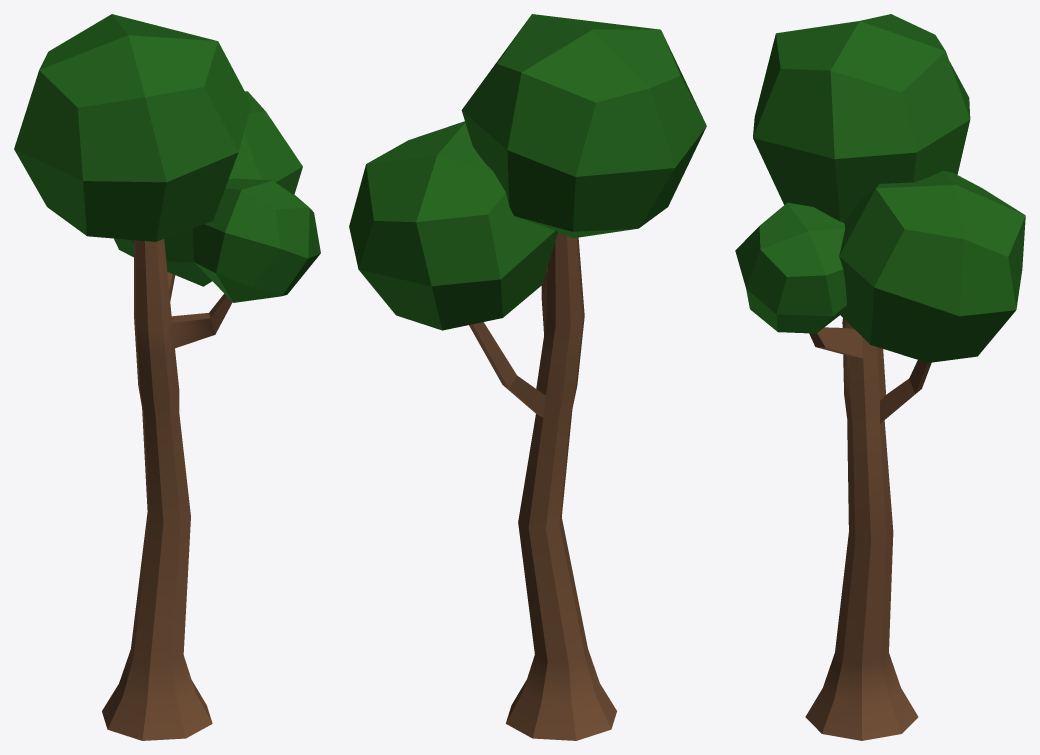
Rendered from TreeSmall.fbx.
The picture shows the model from 3 angles, left to right: view 1: azimuth 30°, elevation 25°; view 2: azimuth 150°, elevation 25°; view 3: azimuth 270°, elevation 25°; orthographic projection.
Parts seen in each view (by area): view 1: TREE_Thin; view 2: TREE_Thin; view 3: TREE_Thin.
Part boxes in pixels (left/top/right/bottom): TREE_Thin: left=14, top=14, right=320, bottom=740; TREE_Thin: left=349, top=14, right=706, bottom=740; TREE_Thin: left=735, top=14, right=1025, bottom=740.
Bounding box in the file's own units: 5.37 × 12.22 × 4.72.
